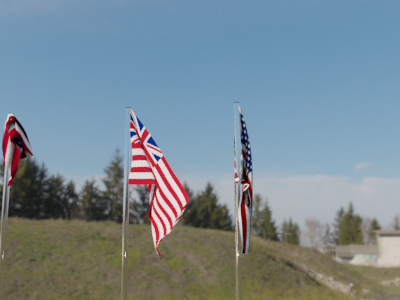America flag: (233, 105, 265, 257)
Liberia flag: (5, 112, 38, 188)
Malaysia flag: (128, 105, 193, 259)
